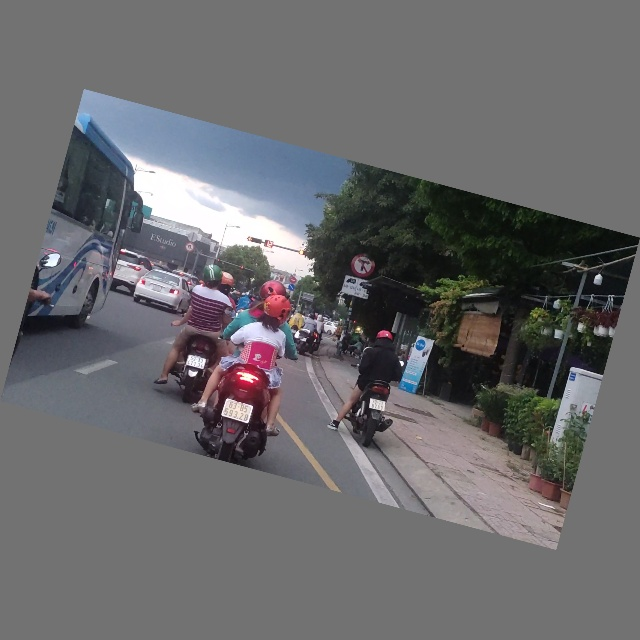P.102: (289, 277, 297, 285)
P.124a*: (184, 241, 196, 254)
P.137: (347, 251, 378, 282)
R.302a: (287, 284, 296, 292)
